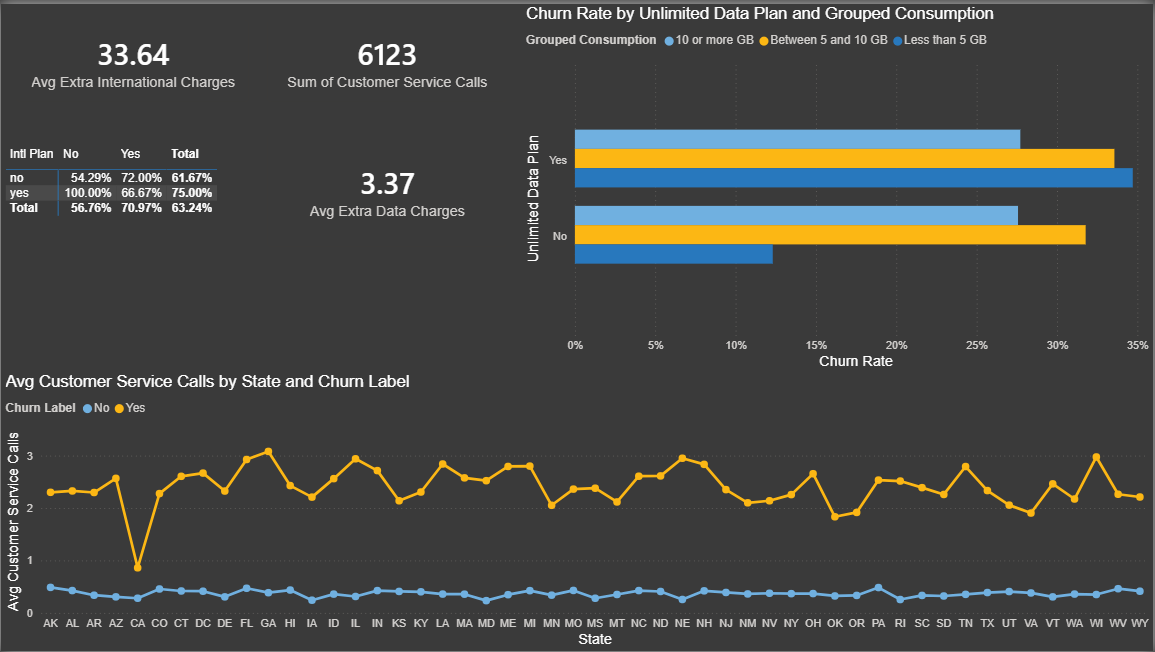

This screenshot's page, from the dashboard's own definition file:
{"tool":"powerbi","page":{"name":"Extra Charges","canvas":[1280,720],"ordinal":3},"visuals":[{"type":"clusteredBarChart","fields":{"Category":["Databel - Data.Unlimited Data Plan"],"Y":["Databel - Data.Churn Rate"],"Series":["Databel - Data.Grouped Consumption"]},"box":[578,0,702,410],"z":0},{"type":"cardVisual","fields":{"Data":["Databel - Data.Avg Extra Data Charges"]},"box":[278,126,300,160],"z":1000},{"type":"cardVisual","fields":{"Data":["Databel - Data.Avg Extra International Charges"]},"box":[0,0,292,126],"z":2000},{"type":"cardVisual","fields":{"Data":["Sum(Databel - Data.Customer Service Calls)"]},"box":[278,0,300,126],"z":3000},{"type":"pivotTable","fields":{"Values":["Databel - Data.Churn Rate"],"Rows":["Databel - Data.Intl Plan"],"Columns":["Databel - Data.Intl Active"]},"box":[0,154,278,132],"z":4000},{"type":"lineChart","fields":{"Category":["Databel - Data.State"],"Y":["Databel - Data.Avg Customer Service Calls"],"Series":["Databel - Data.Churn Label"]},"box":[0,409.1,1280.8,310.9],"z":5000}]}

Visuals, with their boxes in screenshot pixels (x1, y1, x2, y2), scaled from the page's 1280x720 canvas onto the 1155x652 screenshot:
clusteredBarChart - Databel - Data.Unlimited Data Plan x Databel - Data.Churn Rate: <bbox>522, 0, 1154, 371</bbox>
cardVisual - Databel - Data.Avg Extra Data Charges: <bbox>251, 114, 522, 259</bbox>
cardVisual - Databel - Data.Avg Extra International Charges: <bbox>0, 0, 263, 114</bbox>
cardVisual - Sum(Databel - Data.Customer Service Calls): <bbox>251, 0, 522, 114</bbox>
pivotTable - Databel - Data.Churn Rate x Databel - Data.Intl Plan: <bbox>0, 139, 251, 259</bbox>
lineChart - Databel - Data.State x Databel - Data.Avg Customer Service Calls: <bbox>0, 370, 1154, 651</bbox>
